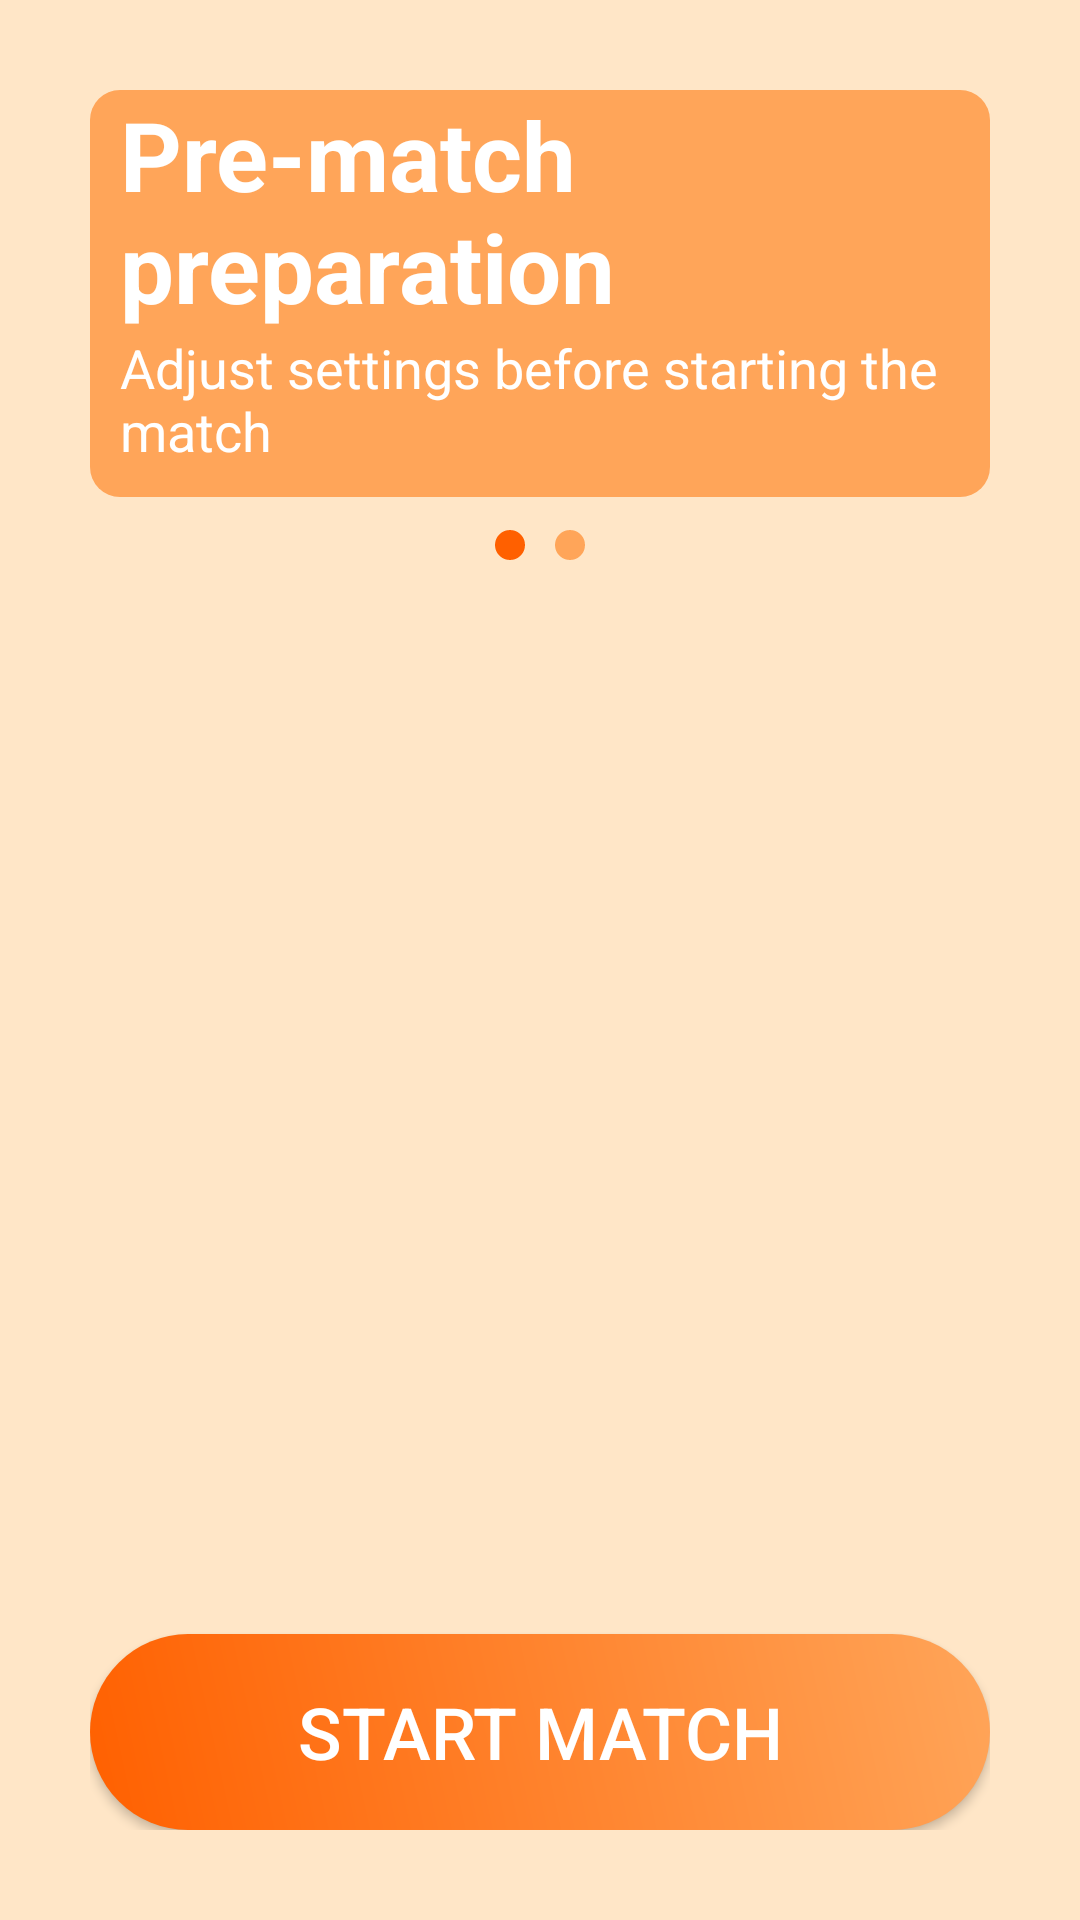

Point at icon controls on the screen. Image size 1080w x 1920h, points as (x=x, y=y).
indicator dot: (x=510, y=545), (x=570, y=545)
